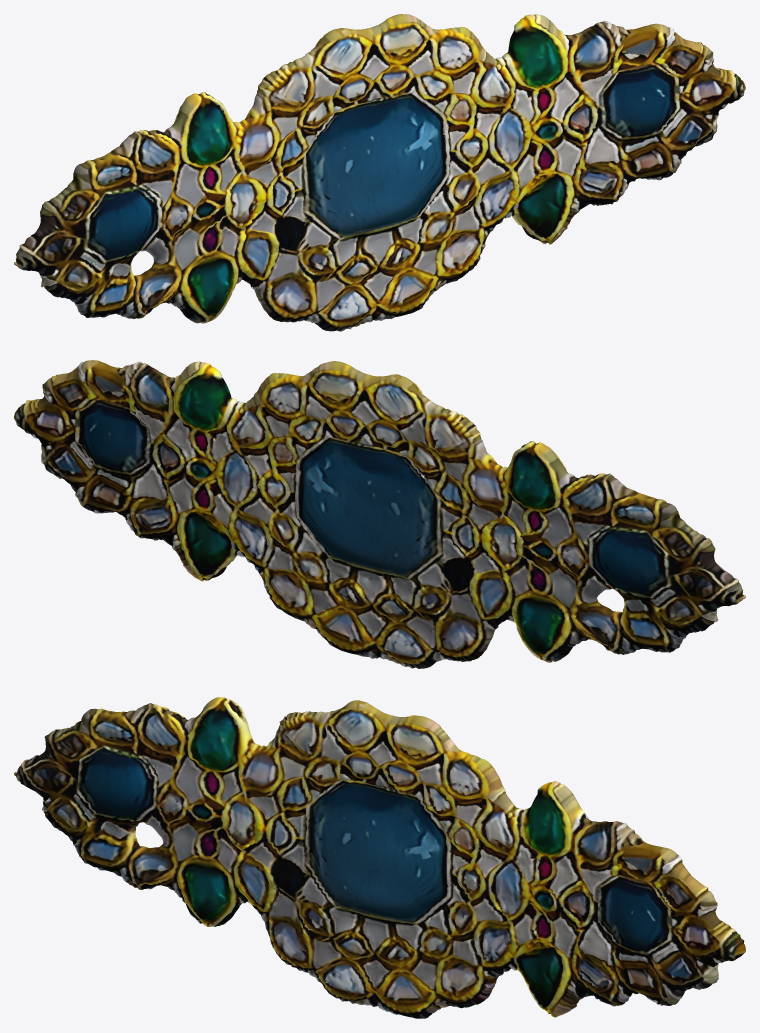
The model's file is kfl-2231.glb.
The picture shows the model from 3 angles, top to bottom: view 1: azimuth 30°, elevation 25°; view 2: azimuth 150°, elevation 25°; view 3: azimuth 330°, elevation 25°; orthographic projection.
Visible parts, largest first — view 1: kfl-2231; view 2: kfl-2231; view 3: kfl-2231.
Boxes of the visible parts, x1=… form: kfl-2231: x1=14, y1=14, x2=745, y2=331; kfl-2231: x1=14, y1=360, x2=745, y2=668; kfl-2231: x1=14, y1=697, x2=745, y2=1018.
Bounding box in the file's own units: 0.9851 × 0.3803 × 0.0645.
1 material, 1 textured.
